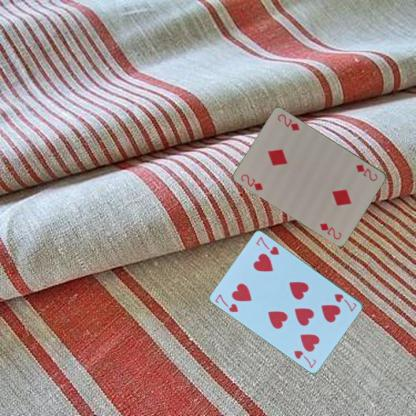2d: (354, 161, 380, 182), (238, 171, 264, 192)
7h: (212, 291, 240, 314), (332, 291, 358, 313)
